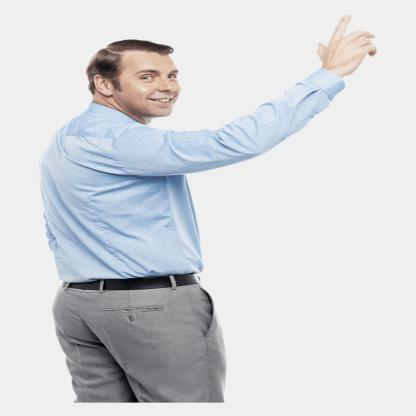Up: (302, 10, 397, 81)
